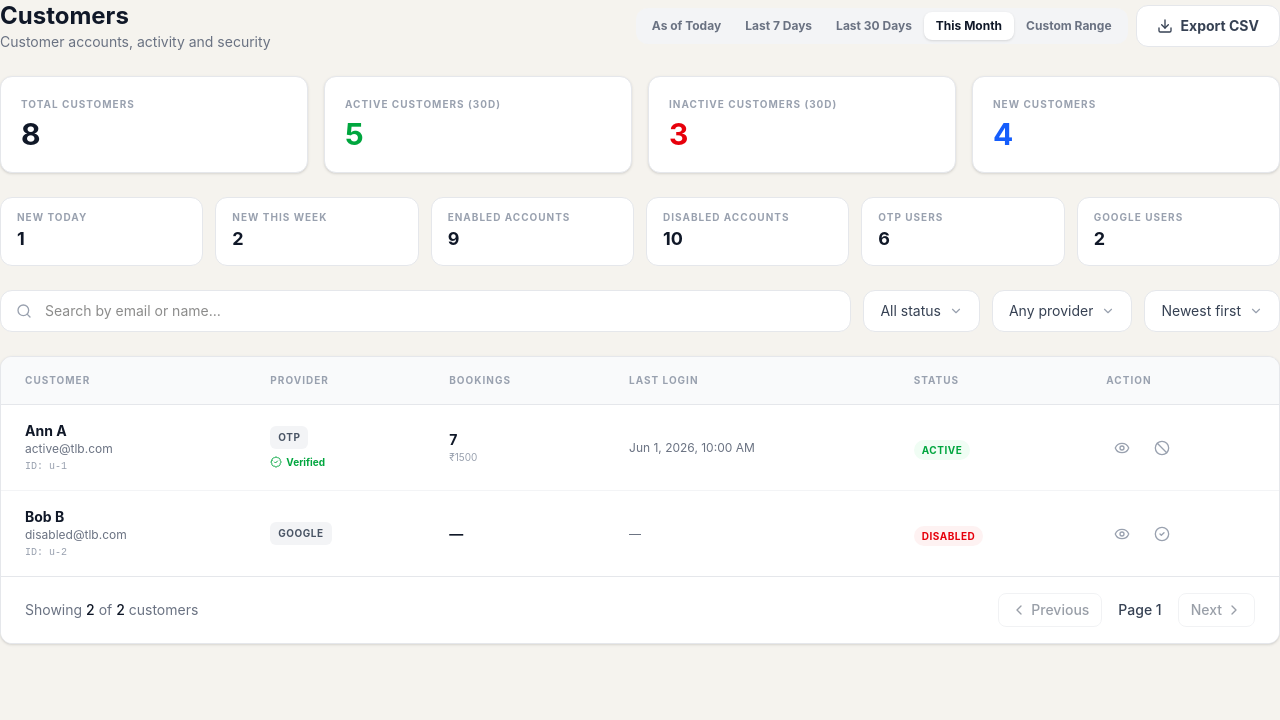
Test case: UserManagement › opens the detail slide-over with account info
Click the text "active@tlb.com". click: (69, 448)
box: [25,441,113,456]
(page scrolled)
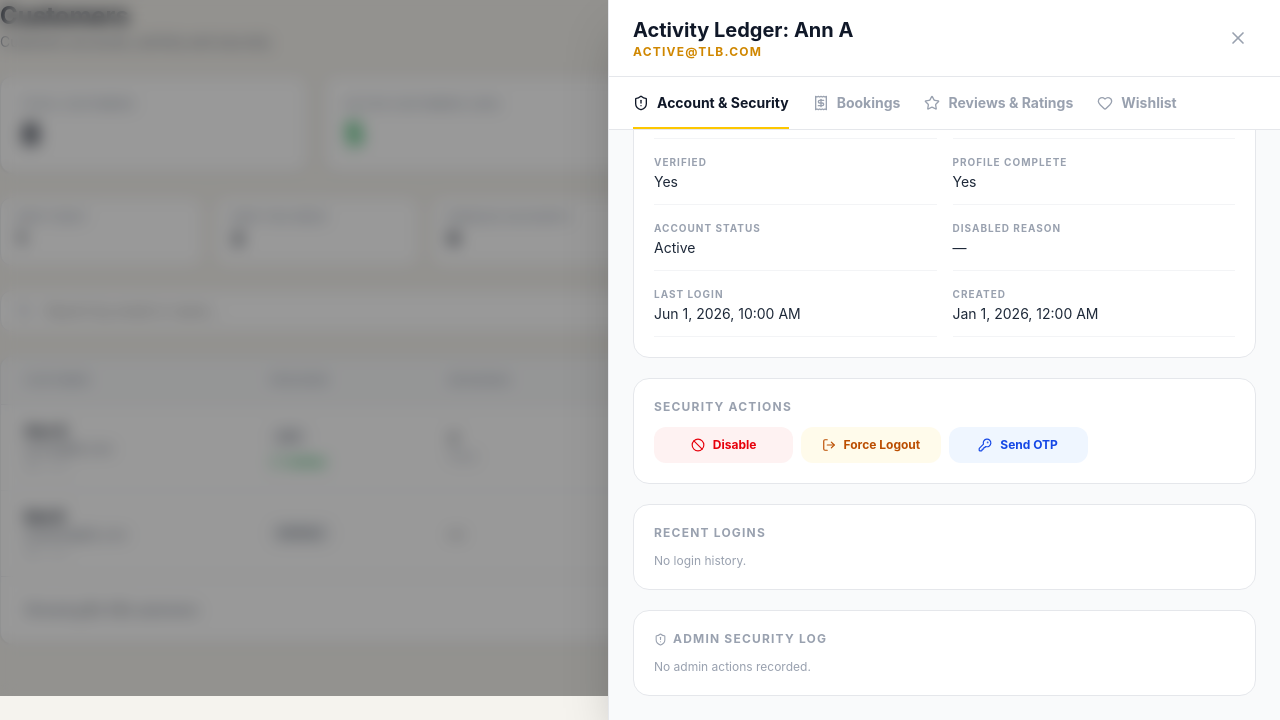
Now the button "Account & Security" is shown, box [633,77,789,129]
Now the heading "Recent Logins" is shown, box [654,525,766,540]
